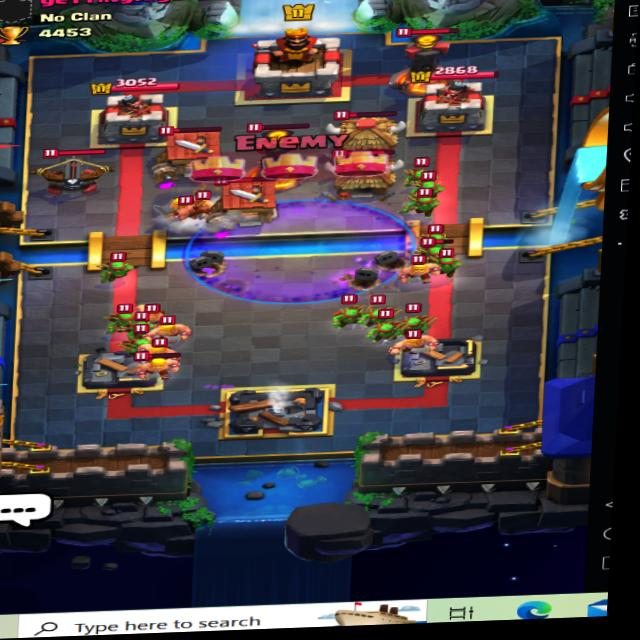barbarian: (126, 332, 187, 363), (392, 250, 443, 280), (134, 346, 183, 374), (393, 329, 439, 356), (157, 190, 196, 219), (148, 316, 191, 338), (134, 299, 168, 324)
barbarian-hut: (203, 167, 290, 222), (146, 113, 226, 171)
goblin-hut: (325, 98, 416, 161), (324, 134, 412, 193)
inferno-tower: (242, 111, 317, 184)
spear-goblin: (369, 317, 403, 351), (361, 298, 397, 329), (402, 312, 445, 335), (114, 302, 146, 329), (101, 259, 132, 285), (128, 331, 158, 357), (333, 303, 364, 328), (432, 249, 463, 272), (415, 174, 442, 200), (404, 195, 440, 214), (415, 224, 446, 246)
x-bow: (18, 134, 108, 191)
